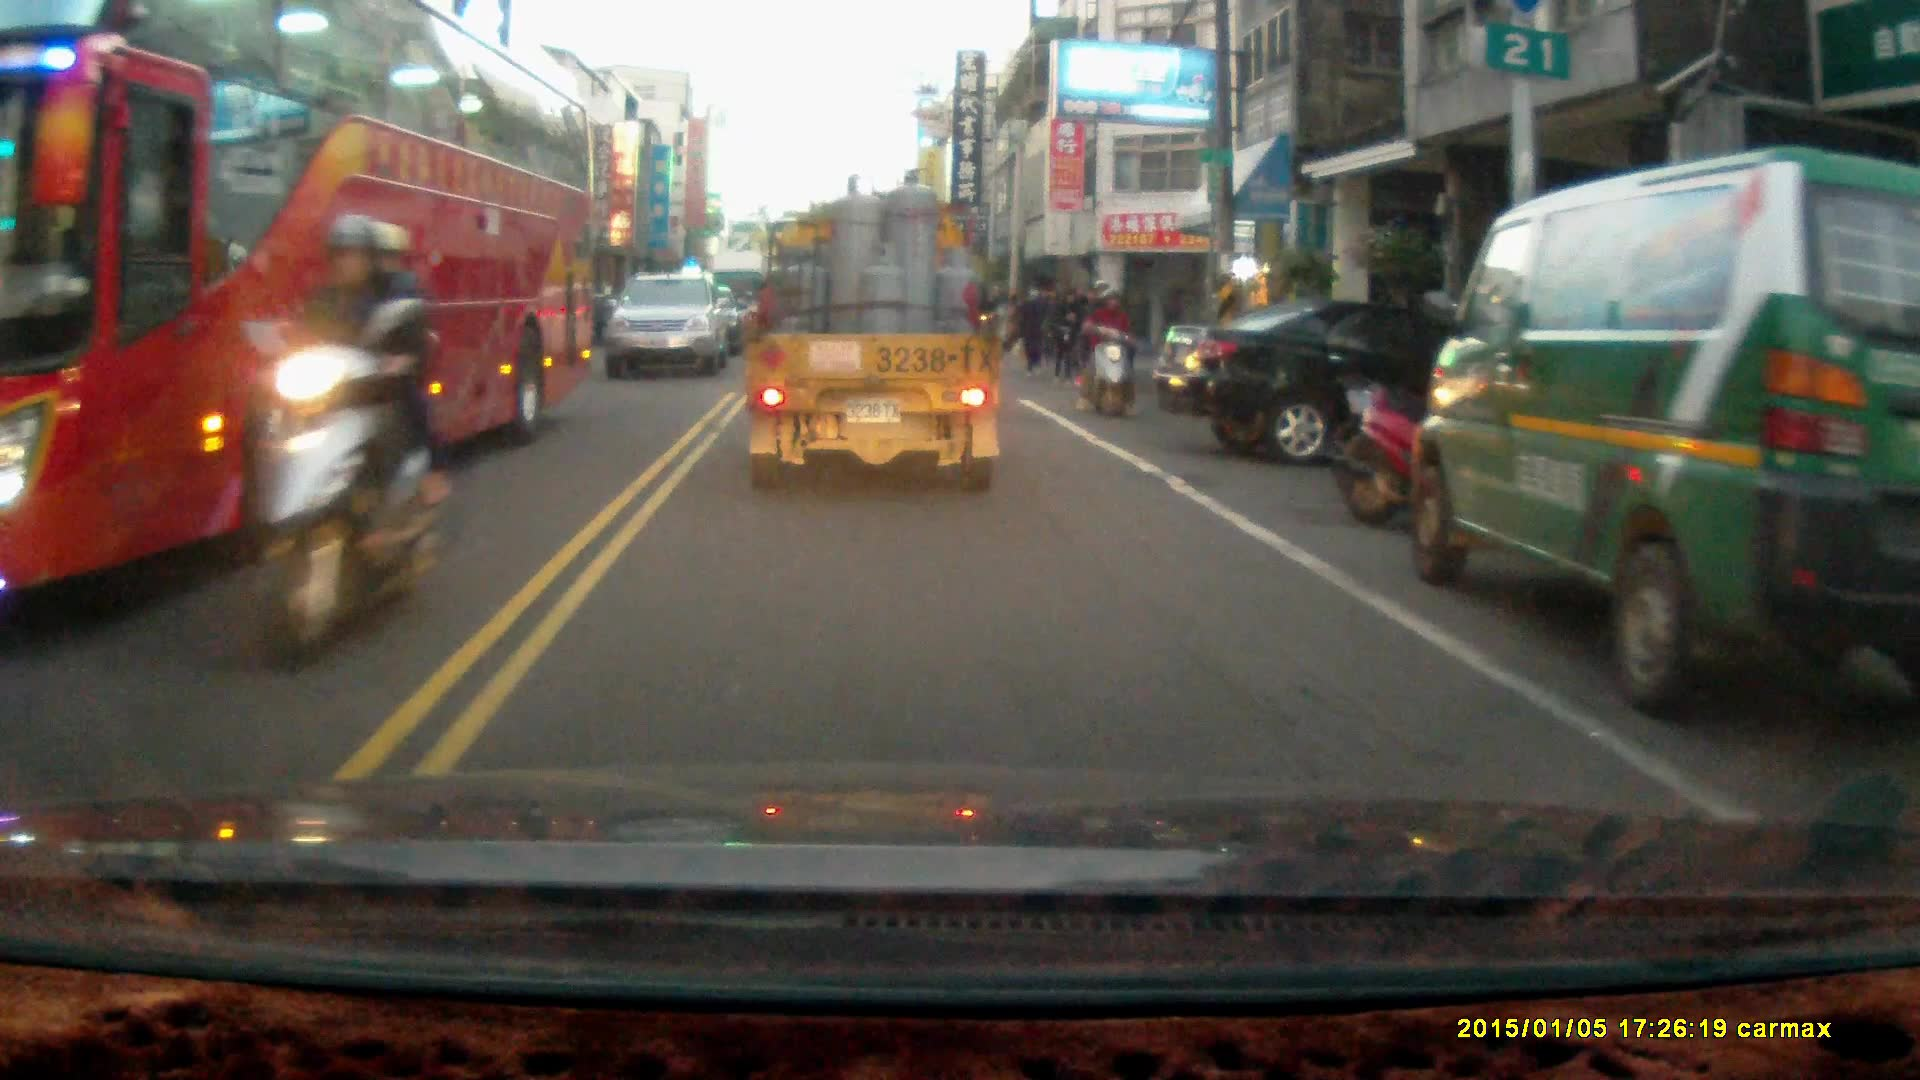pedestrian: (1051, 286, 1083, 384), (1018, 286, 1052, 370)
rider: (234, 212, 452, 672), (1081, 277, 1143, 422)
vehicle: (1, 7, 607, 609), (1413, 142, 1920, 721), (743, 168, 1007, 492), (1167, 298, 1495, 471), (606, 273, 733, 381)
